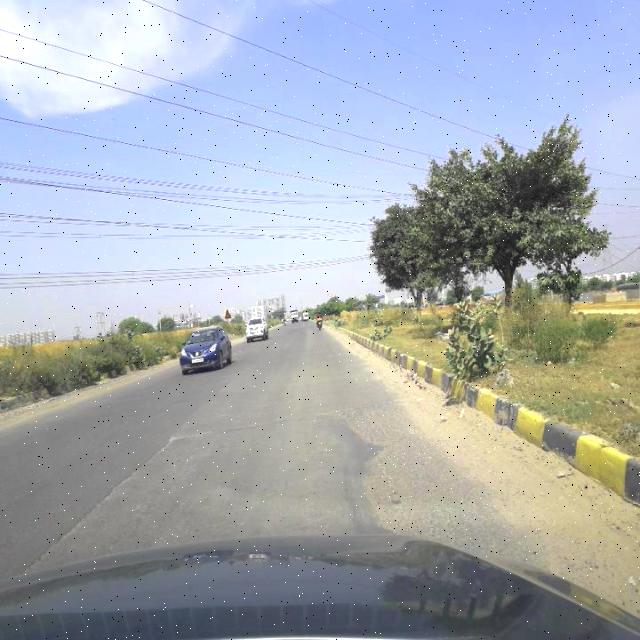D00: (36, 427, 177, 569)
